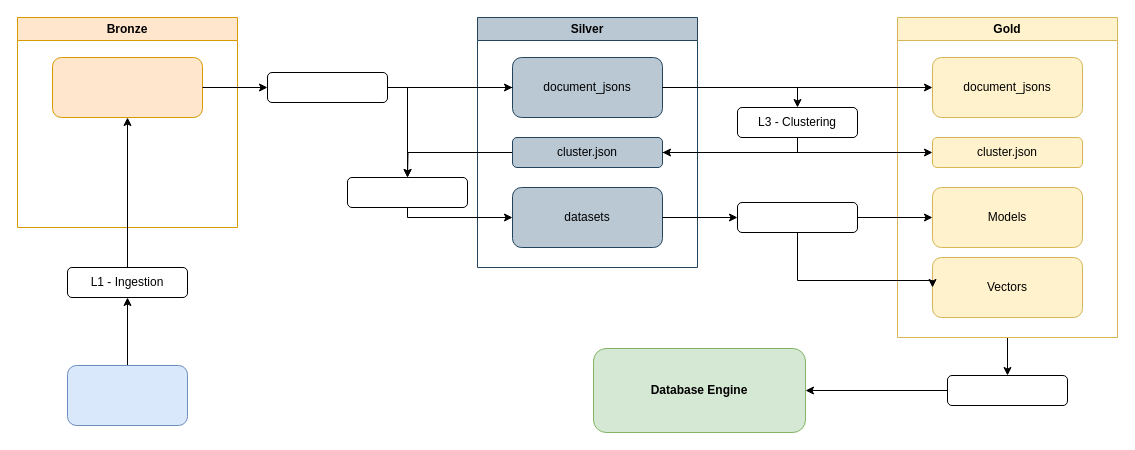
Some shapes in this 1135 by 450 pixel diagram are drawn without their labels. The shapes that lost their labels are listed below. From the top down, each one's centre as x and y in pixels, then its label:
At [127,87]: "document_raws (html)".
At [327,87]: "L2 - Processing".
At [407,192]: "l4 - Build dataset".
At [797,217]: "L5 - Train Model".
At [127,395]: "Websites".
At [1007,390]: "L6 - Database init".
